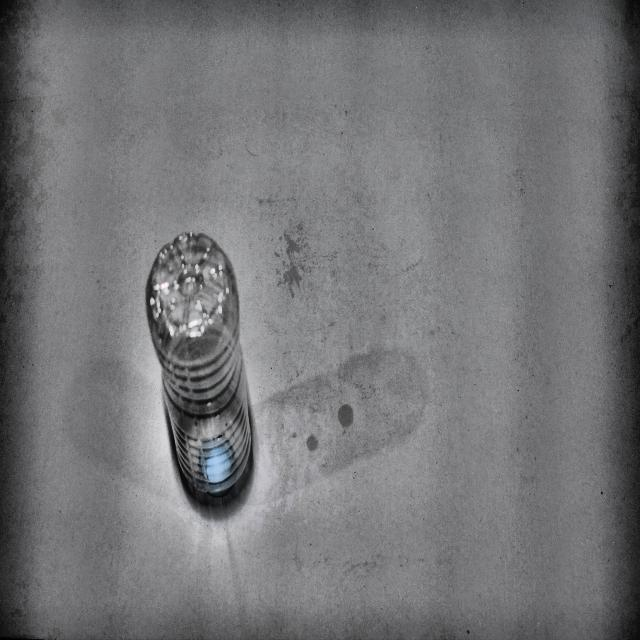Bottles: (140, 216, 266, 506)
